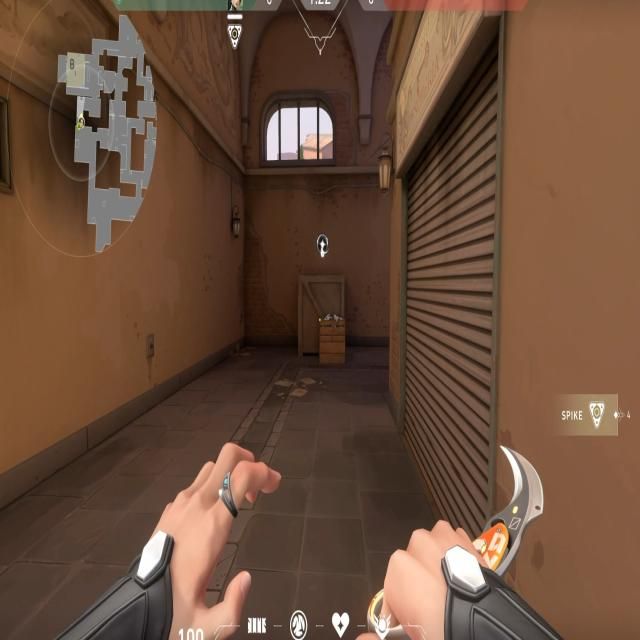B_Main_Wallbang: (291, 226, 353, 368)
Throwables: (255, 82, 346, 180)
